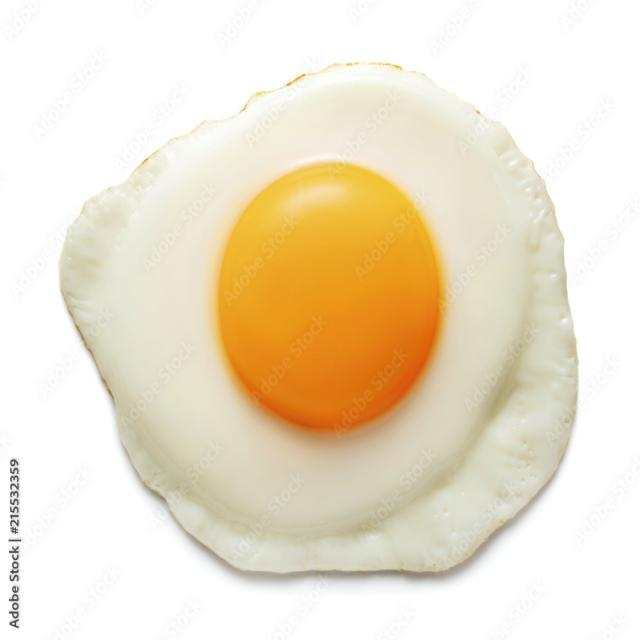Egg: (60, 65, 578, 572)
